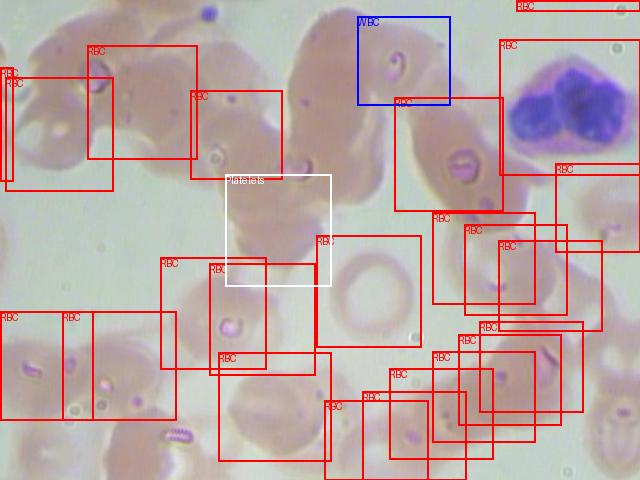Platelets: (225, 174, 331, 286)
RBC: (499, 39, 640, 175), (87, 45, 197, 159), (62, 311, 176, 420), (394, 97, 503, 211), (218, 352, 331, 461), (5, 77, 113, 191), (160, 257, 266, 369), (209, 263, 315, 375), (316, 235, 421, 347), (0, 311, 93, 420), (432, 212, 535, 304), (389, 368, 493, 459), (479, 321, 583, 412), (498, 240, 602, 331), (432, 351, 535, 442), (458, 334, 561, 425), (464, 224, 567, 315), (362, 391, 466, 480), (324, 400, 428, 480), (190, 90, 282, 179), (555, 163, 640, 252), (0, 67, 13, 181), (516, 0, 640, 11)
WBC: (357, 16, 450, 105)
